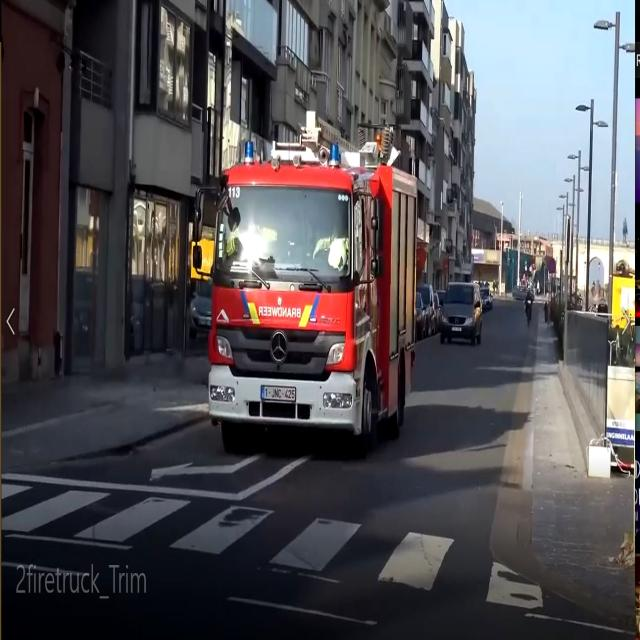emergency: (185, 106, 427, 465)
